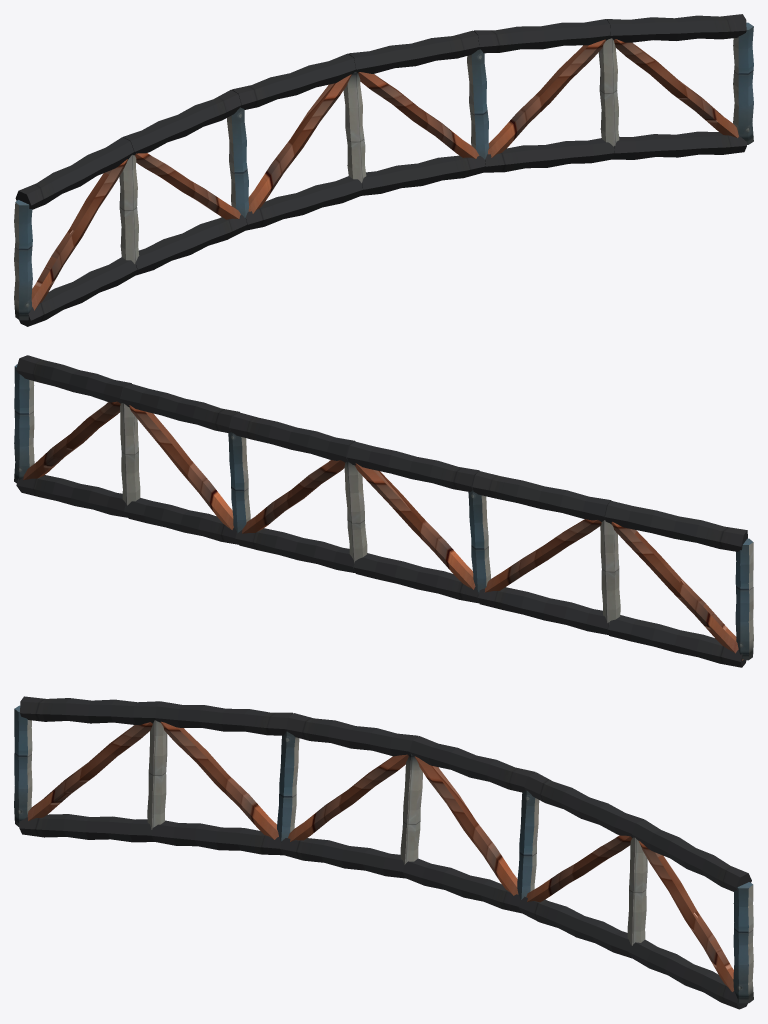
File: Wreckage_SteelGirder_Truss.fbx
3 renders of one model, top to bottom at view 1: azimuth 30°, elevation 25°; view 2: azimuth 150°, elevation 25°; view 3: azimuth 330°, elevation 25°, orthographic.
Parts seen in each view (by area): view 1: Wreckage_SteelGirder_Truss; view 2: Wreckage_SteelGirder_Truss; view 3: Wreckage_SteelGirder_Truss.
Part boxes in pixels (x1,y1,x2,y2): Wreckage_SteelGirder_Truss: (14,14,753,326); Wreckage_SteelGirder_Truss: (14,355,753,667); Wreckage_SteelGirder_Truss: (14,696,753,1009).
Bounding box in the file's own units: 3.67 × 0.7595 × 0.3824.
Materials: 3 (3 with a texture image).
